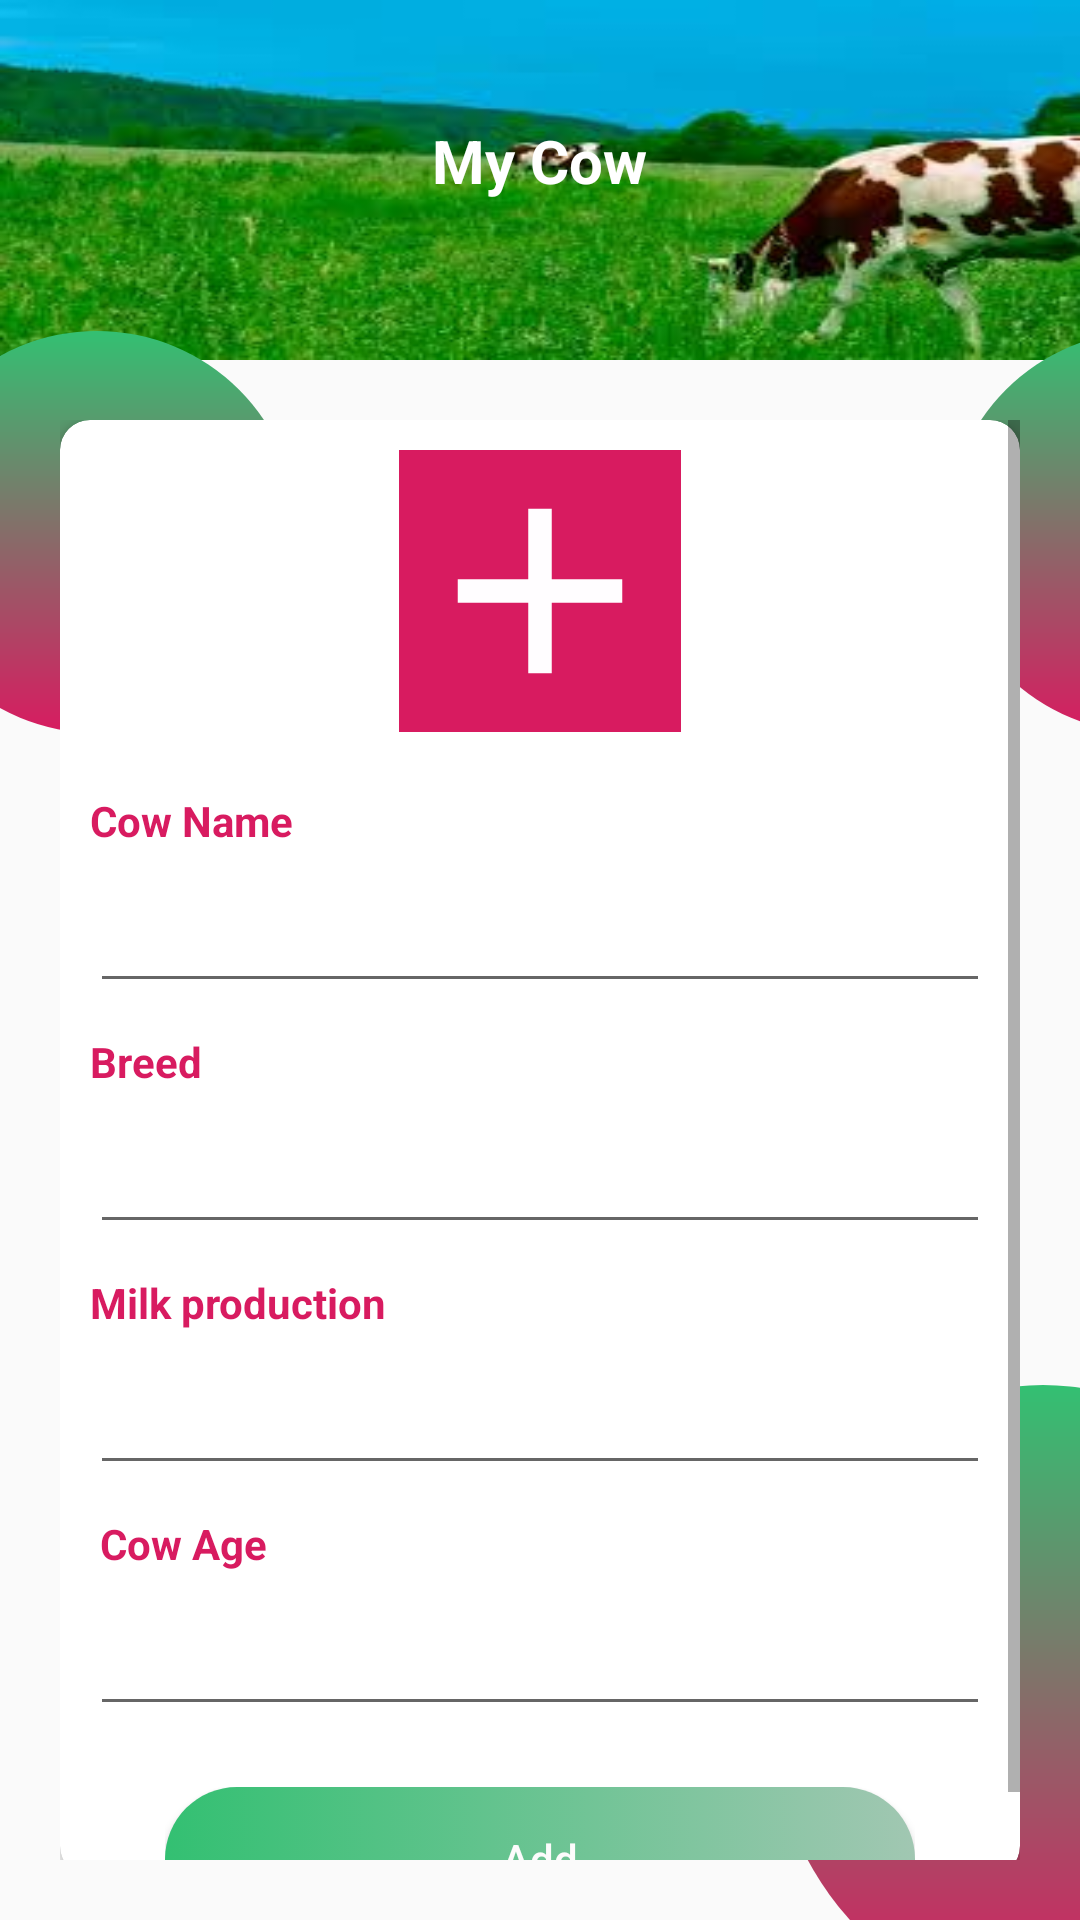

Icons on this 1080px×1920px Android screen, each with the point to tap as (x=x, y=y):
add: (x=540, y=591)
